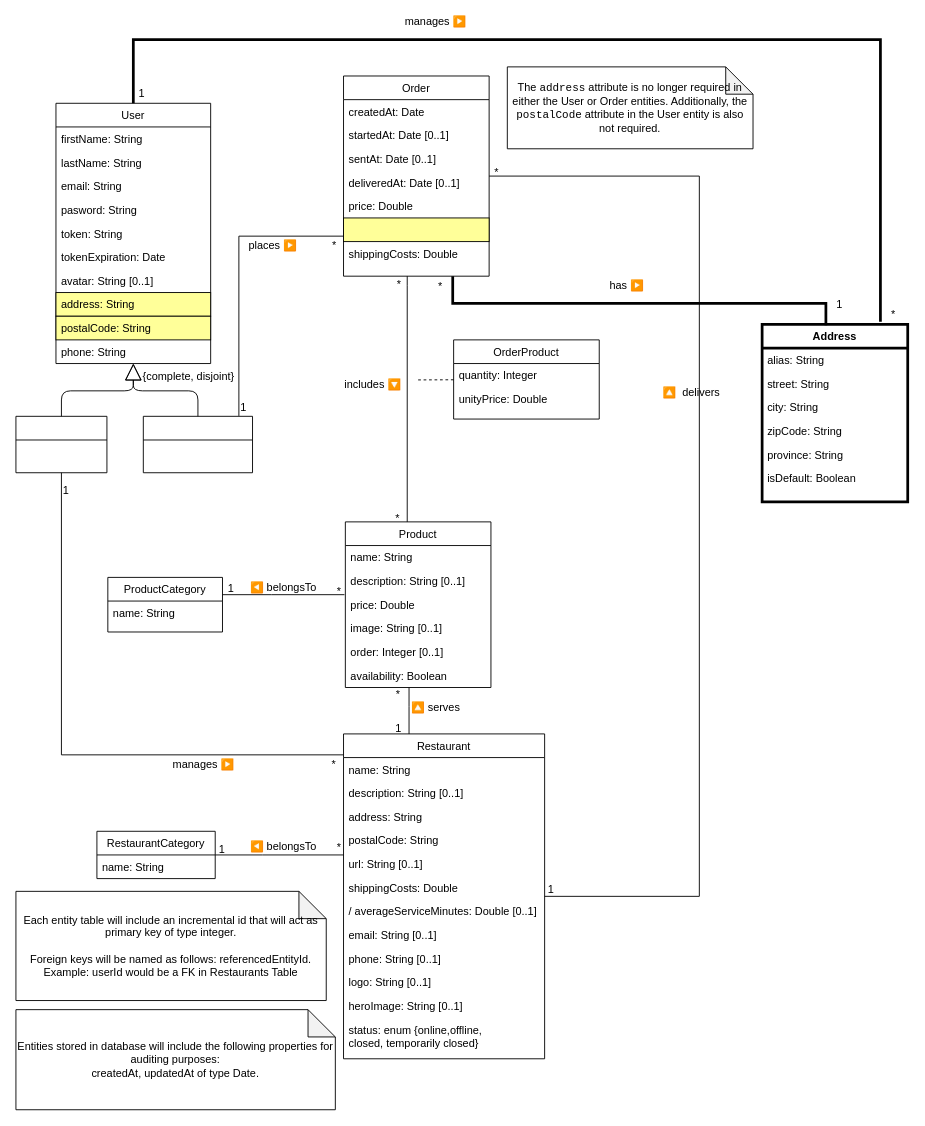
Image size: 925x1126. Some labels were removed from this diagram. The shapes that lost their labels are listed below. From the top down, each one's centre as x and y in pixels, then its label:
At point 416,229: "address:String".
At point 61,444: "Owner".
At point 197,444: "Customer".
